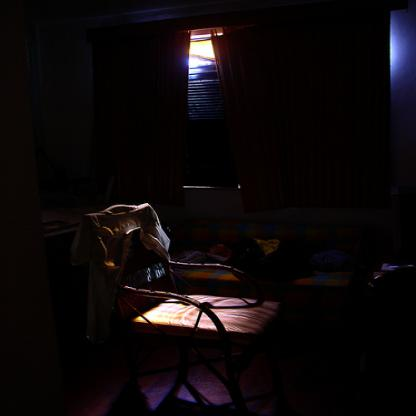chair: (79, 202, 290, 415)
